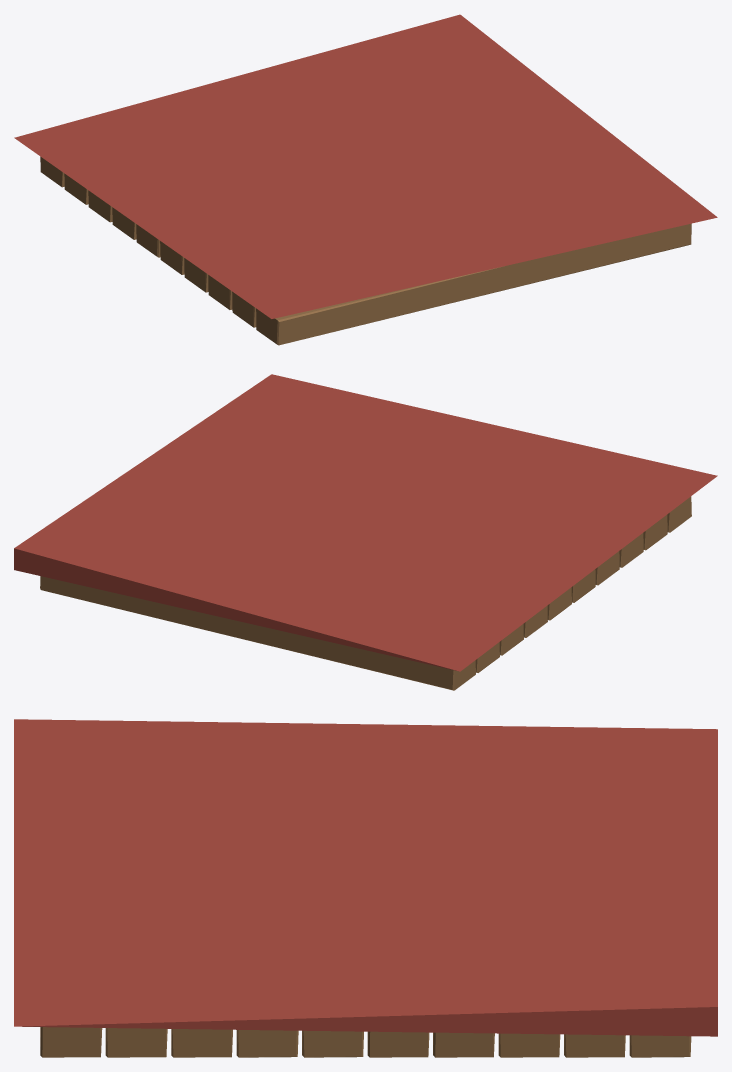
Rendered from harbor-flat-roof.lod1.glb.
The picture shows the model from 3 angles, top to bottom: view 1: azimuth 30°, elevation 25°; view 2: azimuth 150°, elevation 25°; view 3: azimuth 270°, elevation 25°; orthographic projection. The views are drawn at different scales.
Parts seen in each view (by area): view 1: harbor-flat-roof__roof, harbor-flat-roof__body; view 2: harbor-flat-roof__roof, harbor-flat-roof__body; view 3: harbor-flat-roof__roof, harbor-flat-roof__body.
Boxes of the visible parts, <box> form: harbor-flat-roof__roof: <box>14,14,717,318</box>; harbor-flat-roof__body: <box>40,156,691,345</box>; harbor-flat-roof__roof: <box>14,374,717,671</box>; harbor-flat-roof__body: <box>40,496,691,690</box>; harbor-flat-roof__roof: <box>14,719,717,1036</box>; harbor-flat-roof__body: <box>40,1027,691,1057</box>.
Size of the model in its own units: 2.15 by 0.2079 by 2.15.
